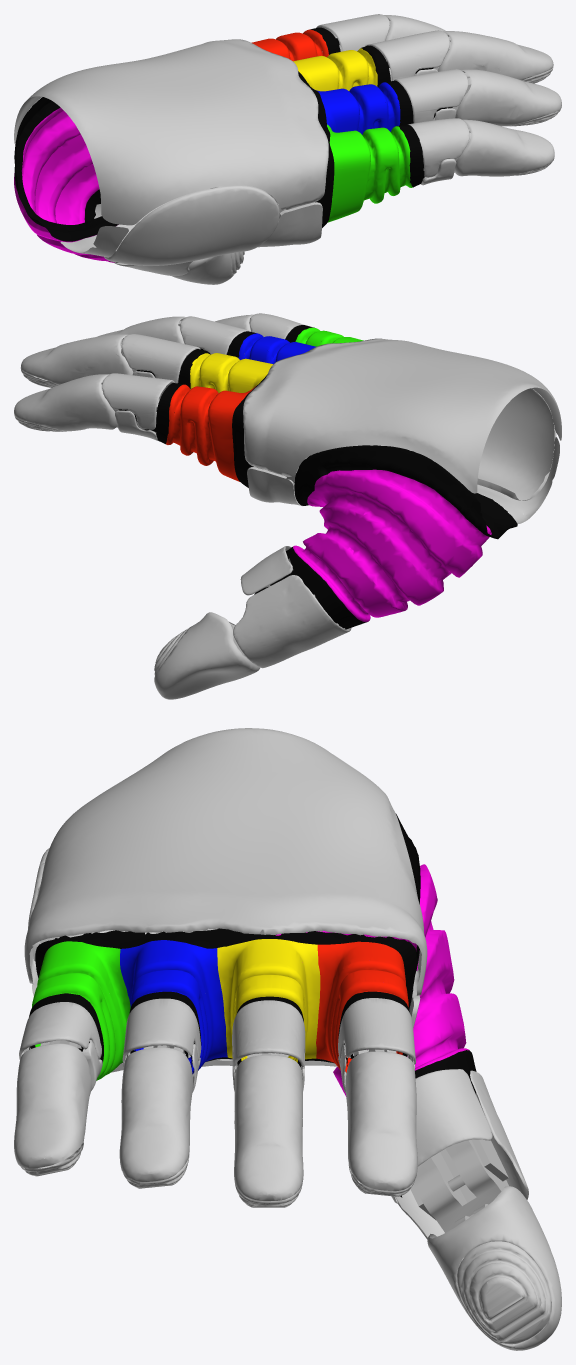
File: festh3_test8.obj
3 views of the same model, one above another, from view 1: azimuth 30°, elevation 25°; view 2: azimuth 150°, elevation 25°; view 3: azimuth 270°, elevation 25° (orthographic). The views are drawn at different scales.
Parts seen in each view (by area): view 1: palm_1_part_25, gofra_1_part_12, gofra_2_patr_6, rubber_1_part_23, part_8, part_7, part_9, palm_1_part_24, falangi_2_part_15, falangi_2_part_17, falangi_2_part_13, falangi_2_part_19 (+4 smaller); view 2: palm_1_part_25, gofra_2_patr_6, gofra_1_part_12, rubber_1_part_23, falangi_2_part_21, part_11, part_10, part_9, palm_1_part_24, falangi_2_part_19, falangi_2_part_17, falangi_2_part_15 (+4 smaller); view 3: palm_1_part_25, gofra_1_part_12, part_9, part_10, part_8, part_7, gofra_2_patr_6, part_5, part_11, part_35, falangi_2_part_22, falangi_2_part_17 (+5 smaller).
Part boxes in pixels (<box>): palm_1_part_25: <box>14,39,328,225</box>; gofra_1_part_12: <box>251,27,452,227</box>; gofra_2_patr_6: <box>14,97,118,262</box>; rubber_1_part_23: <box>104,185,284,265</box>; part_8: <box>455,69,561,126</box>; part_7: <box>454,119,554,176</box>; part_9: <box>437,31,553,80</box>; palm_1_part_24: <box>60,188,322,257</box>; falangi_2_part_15: <box>394,69,468,122</box>; falangi_2_part_17: <box>369,30,449,80</box>; falangi_2_part_13: <box>408,118,469,177</box>; falangi_2_part_19: <box>316,14,389,51</box>; palm_1_part_25: <box>243,338,561,493</box>; gofra_2_patr_6: <box>254,445,517,629</box>; gofra_1_part_12: <box>118,325,363,487</box>; rubber_1_part_23: <box>257,388,556,500</box>; falangi_2_part_21: <box>233,575,351,668</box>; part_11: <box>154,612,259,699</box>; part_10: <box>14,374,117,431</box>; part_9: <box>20,334,133,384</box>; palm_1_part_24: <box>247,437,559,523</box>; falangi_2_part_19: <box>102,373,174,429</box>; falangi_2_part_17: <box>121,334,200,383</box>; falangi_2_part_15: <box>180,316,249,354</box>; palm_1_part_25: <box>24,728,427,995</box>; gofra_1_part_12: <box>29,928,416,1080</box>; part_9: <box>234,1055,303,1201</box>; part_10: <box>345,1051,417,1191</box>; part_8: <box>119,1047,192,1182</box>; part_7: <box>14,1043,91,1168</box>; gofra_2_patr_6: <box>233,814,476,1197</box>; part_5: <box>457,1241,550,1344</box>; part_11: <box>427,1186,561,1350</box>; part_35: <box>410,1139,508,1232</box>; falangi_2_part_22: <box>391,1069,492,1203</box>; falangi_2_part_17: <box>232,1000,305,1069</box>.
Bounding box in the file's own units: 155 × 90.79 × 102.
